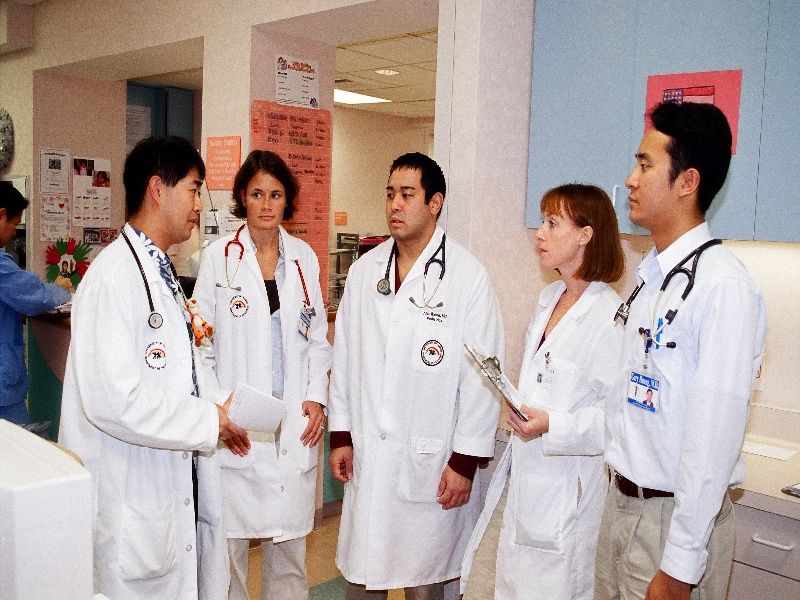face: (619, 112, 708, 231), (133, 148, 205, 245), (534, 189, 595, 279), (379, 156, 434, 240), (233, 161, 291, 237)
